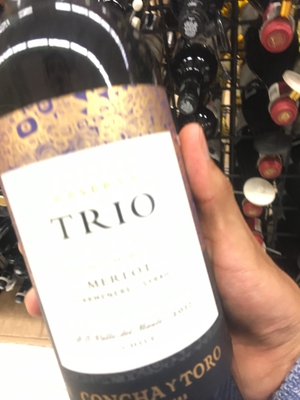trio merlot: (2, 23, 235, 400)
